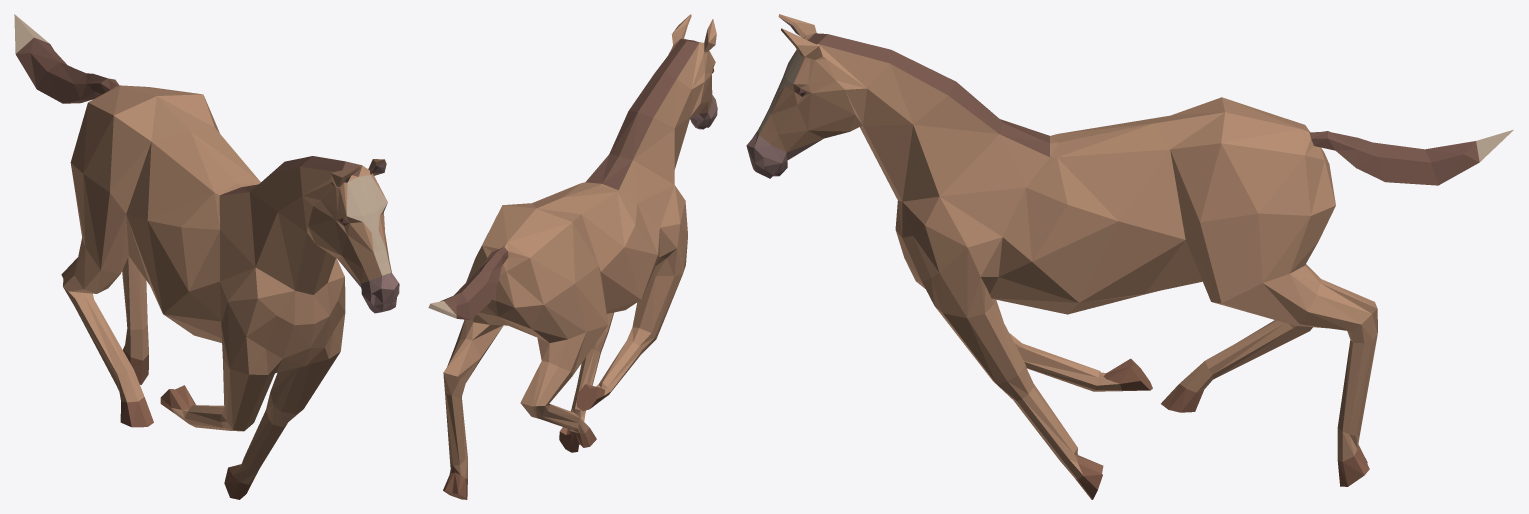
The model's file is Horse.glb.
The picture shows the model from 3 angles, left to right: view 1: azimuth 30°, elevation 25°; view 2: azimuth 150°, elevation 25°; view 3: azimuth 270°, elevation 25°; orthographic projection. The views are drawn at different scales.
Visible parts, largest first — view 1: mesh_0; view 2: mesh_0; view 3: mesh_0.
Boxes of the visible parts, x1,y1,x2,y2 form: mesh_0: (14,14,399,499); mesh_0: (428,14,717,499); mesh_0: (746,14,1513,499).
Bounding box in the file's own units: 66.18 × 191 × 283.
